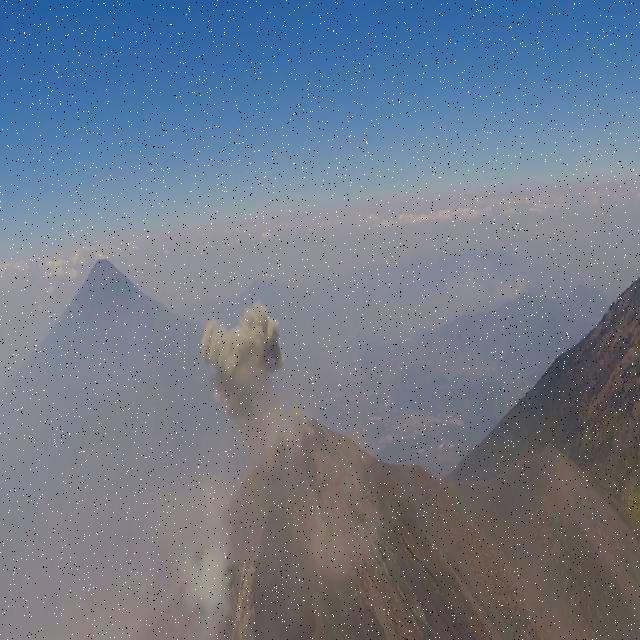Plume: (198, 300, 284, 430)
Summit: (200, 399, 434, 579)
